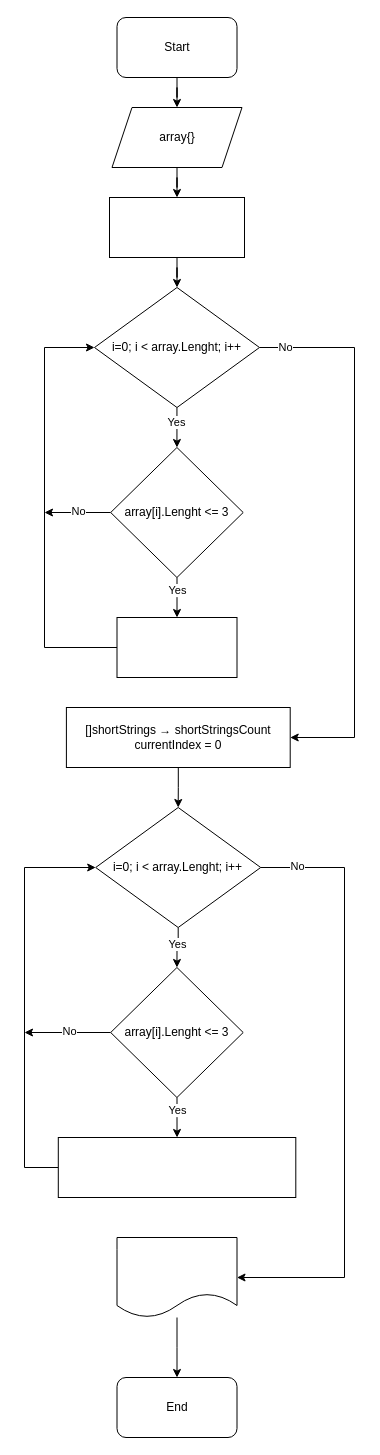
This 380x1455 diagram has some shape labels left out. The shapes that lost their labels are listed below. From the top down, each one's centre as x and y in pixels, then its label:
At [176,227]: "shortStringsCount = 0".
At [176,647]: "shortStringsCount ++".
At [176,1167]: "shortStrings[currentIndex] = array[i] currentIndex++".
At [176,1277]: "return shortStrings".
